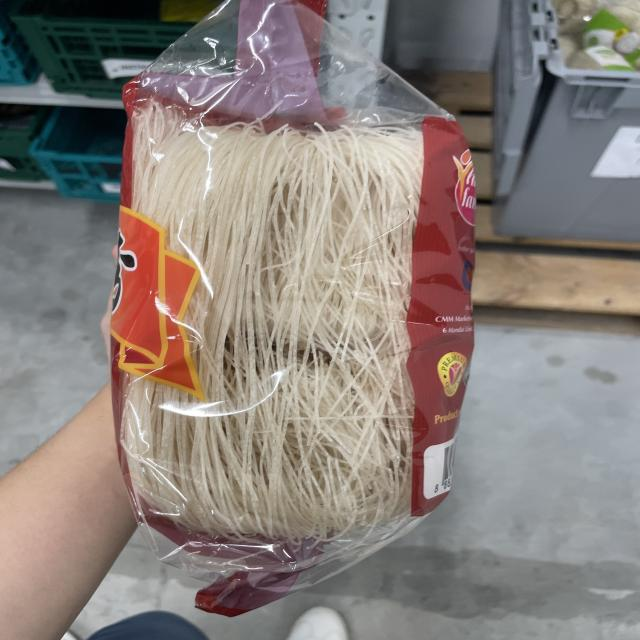object_name: (127, 83, 451, 549)
